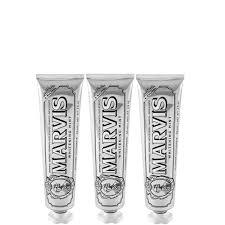toothpaste: (134, 70, 186, 224), (83, 68, 134, 225), (40, 68, 85, 225)
